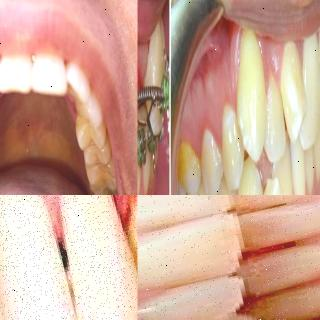Gum Swelling: (0, 195, 138, 240)
maligned: (278, 46, 306, 138), (263, 80, 289, 160), (65, 65, 89, 111), (98, 187, 125, 195)
stains: (172, 145, 202, 193)
